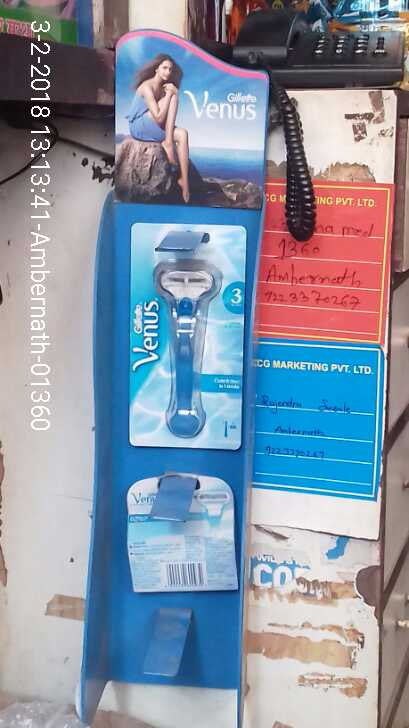venus: (127, 223, 243, 449), (120, 478, 242, 603)
